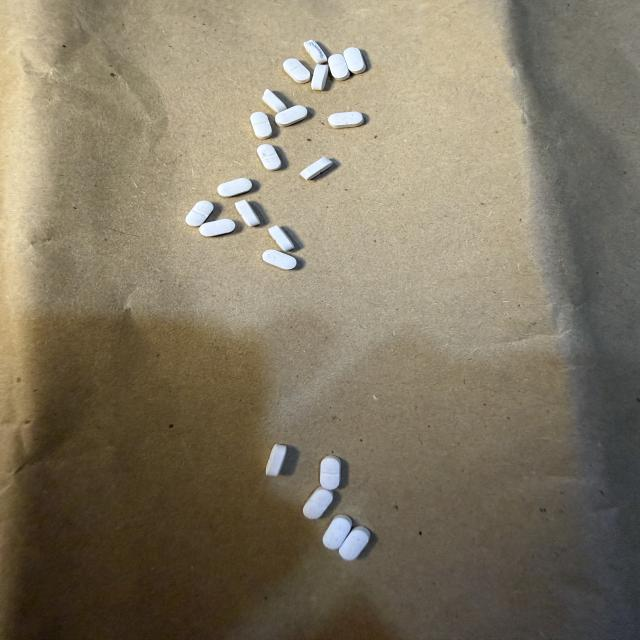pill: (339, 526, 370, 560), (323, 515, 352, 549), (303, 488, 333, 519), (186, 201, 213, 226), (320, 456, 340, 489), (301, 158, 332, 179), (235, 200, 260, 226), (283, 59, 310, 83), (263, 250, 297, 269), (275, 106, 307, 126), (266, 444, 286, 476), (217, 178, 252, 196), (269, 226, 294, 251), (257, 144, 281, 170), (200, 219, 235, 236), (250, 112, 272, 139), (328, 112, 363, 128), (344, 48, 365, 74), (263, 90, 286, 113), (304, 40, 327, 63), (329, 54, 349, 80), (311, 64, 328, 90)
